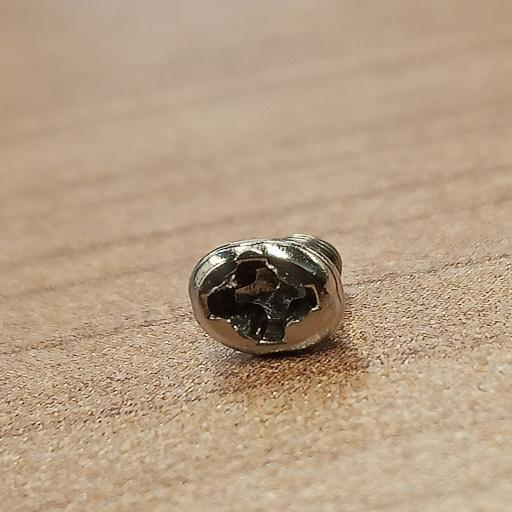Phillips: (172, 232, 350, 356)
